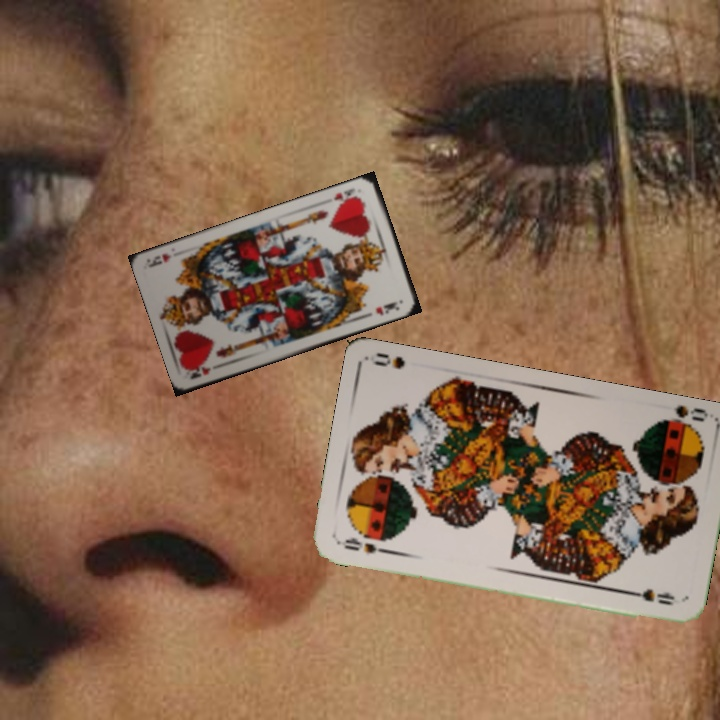HK: (330, 184, 362, 207), (185, 362, 213, 382)
SO: (652, 402, 711, 433), (335, 533, 394, 557)
